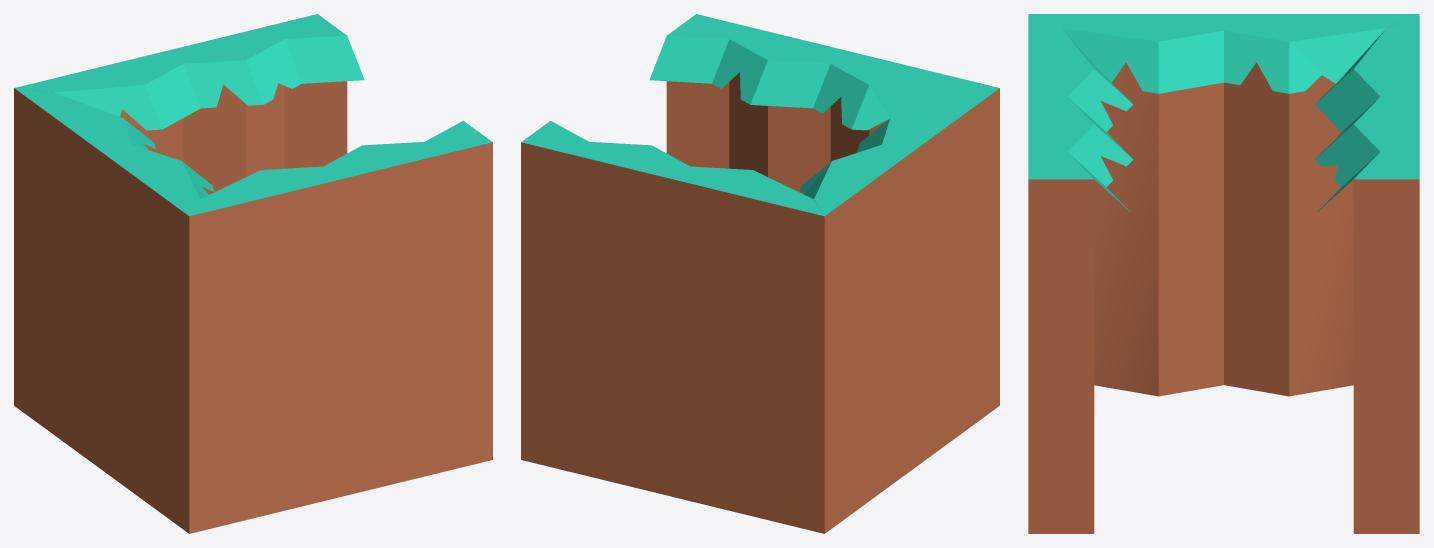
Rendered from hill_3sides.obj.
The picture shows the model from 3 angles, left to right: view 1: azimuth 30°, elevation 25°; view 2: azimuth 150°, elevation 25°; view 3: azimuth 270°, elevation 25°; orthographic projection. The views are drawn at different scales.
Parts seen in each view (by area): view 1: cliff_top_rock.001, cliff_top_rock.002, cliff_top_rock; view 2: cliff_top_rock, cliff_top_rock.002, cliff_top_rock.001; view 3: cliff_top_rock.002, cliff_top_rock, cliff_top_rock.001.
Part boxes in pixels (x1,y1,x2,y2): cliff_top_rock.001: (189,120,492,533); cliff_top_rock.002: (14,88,214,533); cliff_top_rock: (15,14,364,194); cliff_top_rock: (521,120,824,533); cliff_top_rock.002: (799,88,999,533); cliff_top_rock.001: (649,14,998,194); cliff_top_rock.002: (1029,14,1418,396); cliff_top_rock: (1314,14,1419,533); cliff_top_rock.001: (1028,14,1133,533).
Bounding box in the file's own units: 1 × 1 × 1.
